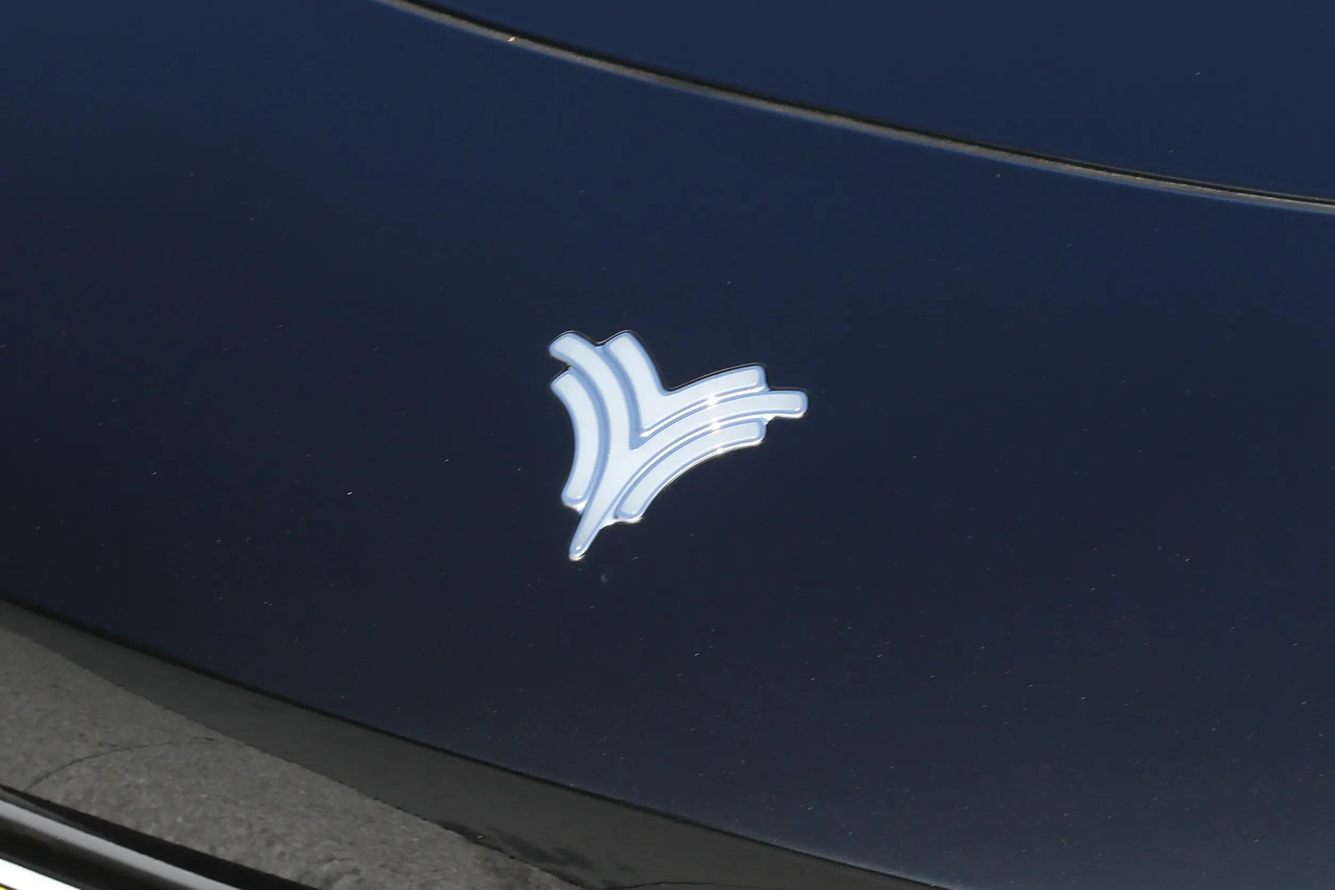NETA: (542, 325, 809, 563)
